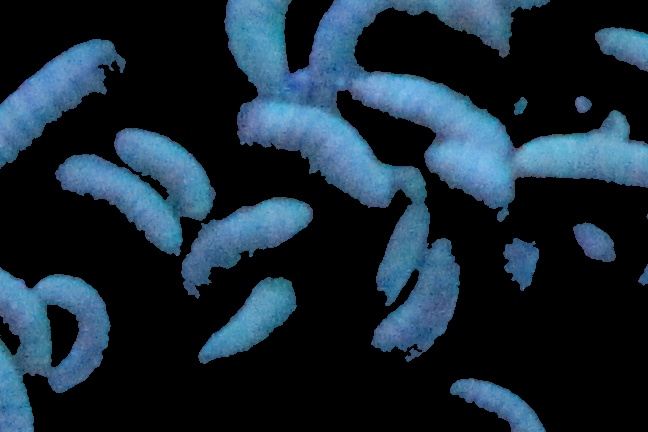larvae: (1, 34, 124, 182), (230, 102, 390, 206), (163, 193, 316, 295), (342, 68, 513, 143), (61, 150, 183, 248), (370, 239, 458, 366), (106, 121, 224, 214), (192, 273, 304, 368), (36, 271, 109, 391), (517, 136, 648, 194), (376, 190, 429, 321), (1, 267, 58, 375), (221, 1, 294, 84), (422, 1, 522, 61), (424, 142, 516, 207), (449, 378, 550, 432), (311, 1, 369, 75)
